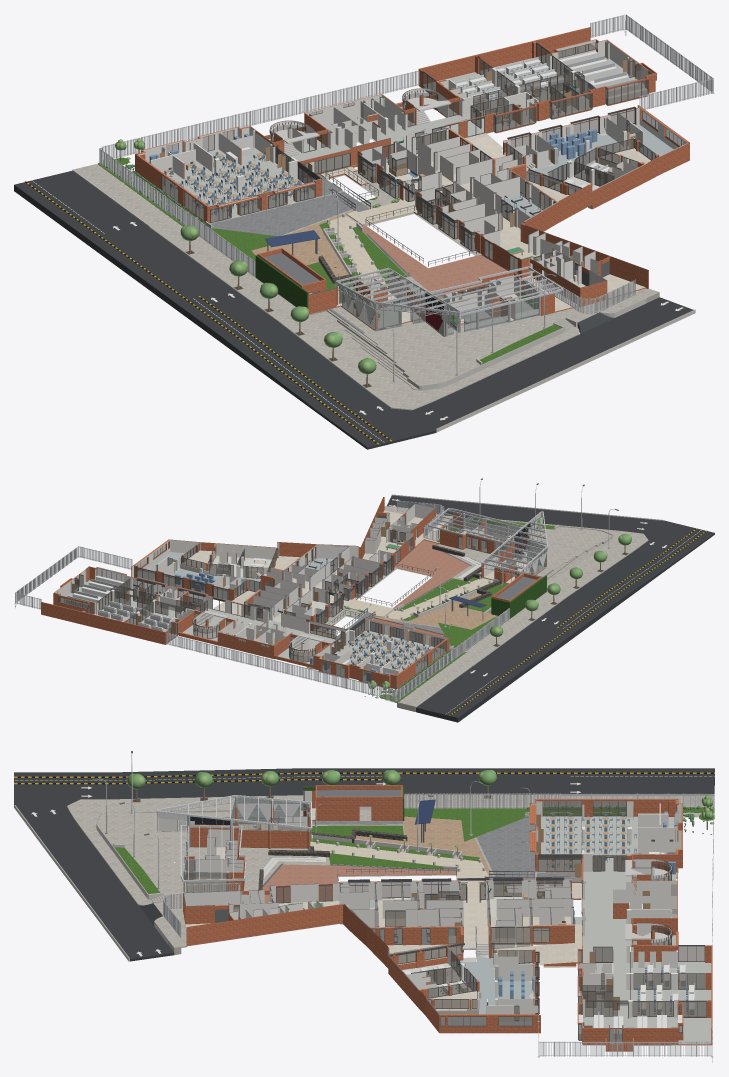
File: floor-1.glb
3 renders of one model, top to bottom at view 1: azimuth 30°, elevation 25°; view 2: azimuth 150°, elevation 25°; view 3: azimuth 270°, elevation 25°, orthographic. The views are drawn at different scales.
Visible parts, largest first — view 1: Walls, Floor_Slab, Access_Plaza_Surface_25, PZ_Pavimentos, Access_Plaza_Surface_23, Access_Plaza_Surface_24, P1_Ventanas_Interiores, P1_Fachada_Compartida, Glass, Site, Perim_V2_Norte_Lindero, F24_Norte_A_Bajo_P1 (+41 smaller); view 2: Walls, Floor_Slab, Access_Plaza_Surface_25, PZ_Pavimentos, Access_Plaza_Surface_23, P1_Ventanas_Interiores, Glass, Access_Plaza_Surface_24, Perim_V2_Norte_Lindero, P1_Fachada_Compartida, F24_Norte_A_Bajo_P1, Site (+34 smaller); view 3: Floor_Slab, Walls, PZ_Pavimentos, Access_Plaza_Surface_23, Access_Plaza_Surface_25, P1_Fachada_Compartida, P1_Ventanas_Interiores, Glass, Access_Plaza_Surface_24, Site, Perim_V2_Perimetro_4_1, Perim_V1_Oeste_Jardin (+44 smaller).
Part boxes in pixels (x1,y1,x2,y2): Walls: (150, 42, 643, 335); Floor_Slab: (135, 44, 673, 336); Access_Plaza_Surface_25: (14, 171, 278, 342); PZ_Pavimentos: (201, 166, 534, 333); Access_Plaza_Surface_23: (314, 297, 693, 449); Access_Plaza_Surface_24: (221, 322, 371, 410); P1_Ventanas_Interiores: (275, 55, 658, 186); P1_Fachada_Compartida: (203, 88, 689, 288); Glass: (211, 61, 640, 299); Site: (116, 158, 653, 355); Perim_V2_Norte_Lindero: (102, 70, 419, 159); F24_Norte_A_Bajo_P1: (418, 27, 590, 114); Walls: (149, 503, 543, 674); Floor_Slab: (61, 510, 545, 689); Access_Plaza_Surface_25: (416, 597, 608, 722); PZ_Pavimentos: (311, 540, 553, 651); Access_Plaza_Surface_23: (387, 495, 714, 562); P1_Ventanas_Interiores: (97, 543, 345, 652); Glass: (74, 536, 486, 661); Access_Plaza_Surface_24: (567, 550, 676, 611); Perim_V2_Norte_Lindero: (165, 633, 393, 700); P1_Fachada_Compartida: (131, 497, 449, 652); F24_Norte_A_Bajo_P1: (41, 602, 193, 644); Site: (306, 508, 578, 702); Floor_Slab: (183, 808, 711, 1043); Walls: (183, 790, 681, 1023); PZ_Pavimentos: (249, 808, 581, 902); Access_Plaza_Surface_23: (14, 772, 174, 961); Access_Plaza_Surface_25: (303, 768, 714, 795); P1_Fachada_Compartida: (186, 799, 672, 1033); P1_Ventanas_Interiores: (411, 855, 705, 1020); Glass: (349, 863, 671, 1006); Access_Plaza_Surface_24: (118, 768, 303, 799); Site: (181, 809, 714, 957); Perim_V2_Perimetro_4_1: (537, 1041, 713, 1057); Perim_V1_Oeste_Jardin: (404, 793, 560, 808).
Size of the model in its own units: 99.84 by 11.76 by 99.89.
Materials: 77 (19 with a texture image).
